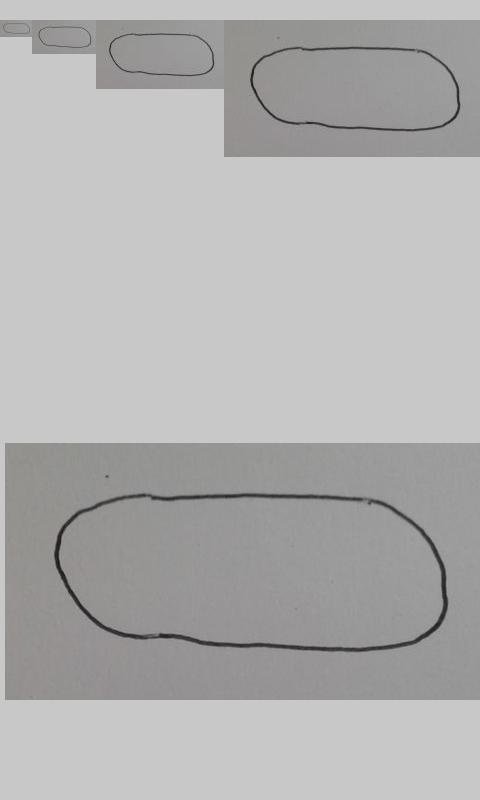chip: (53, 491, 452, 653), (249, 46, 461, 132), (109, 33, 215, 77), (38, 26, 92, 48), (2, 22, 31, 35)
